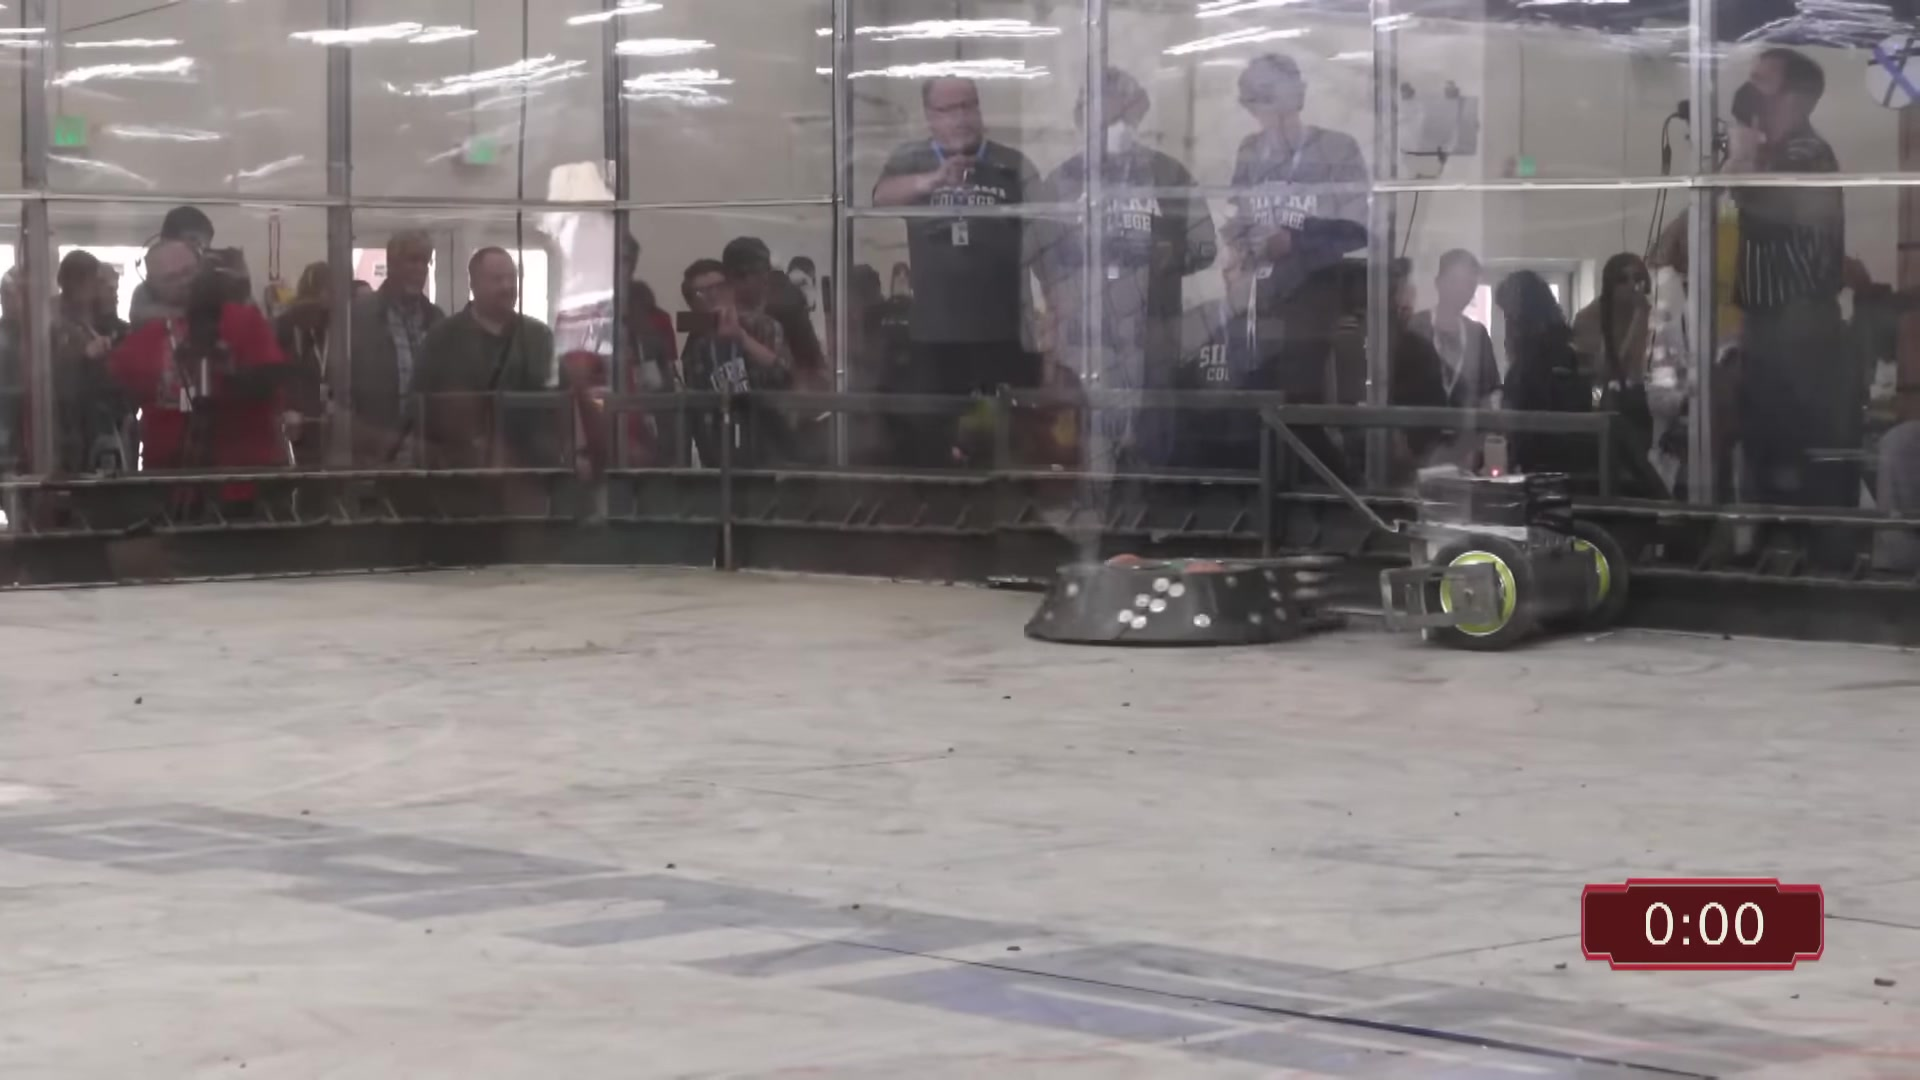combatbot: (1382, 464, 1622, 658), (1025, 555, 1345, 651)
